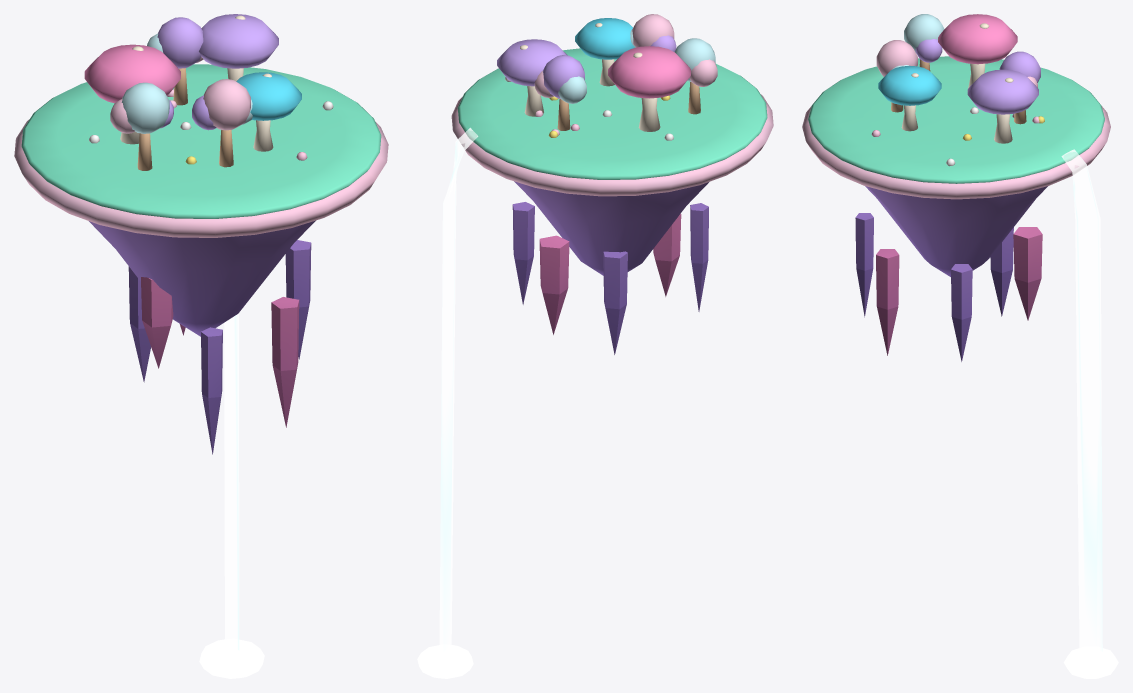
Rendered from bg_islet_a.glb.
3 views of the same model, side by side, from view 1: azimuth 30°, elevation 25°; view 2: azimuth 150°, elevation 25°; view 3: azimuth 270°, elevation 25° (orthographic). The views are drawn at different scales.
Visible parts, largest first — view 1: M_Islet_a__is_grass, M_Islet_a__is_rock, M_Islet_a__is_rim, M_Islet_a__is_water, M_Islet_a__is_rock2, M_Islet_a__is_cap0, M_Islet_a__is_cap2, M_Islet_a__is_puff0, M_Islet_a__is_puff2, M_Islet_a__is_cap1, M_Islet_a__is_puff1, M_Islet_a__is_foam (+2 smaller); view 2: M_Islet_a__is_grass, M_Islet_a__is_rock, M_Islet_a__is_water, M_Islet_a__is_rim, M_Islet_a__is_rock2, M_Islet_a__is_cap0, M_Islet_a__is_cap2, M_Islet_a__is_cap1, M_Islet_a__is_puff0, M_Islet_a__is_foam, M_Islet_a__is_puff1, M_Islet_a__is_cream (+2 smaller); view 3: M_Islet_a__is_grass, M_Islet_a__is_water, M_Islet_a__is_rock, M_Islet_a__is_rim, M_Islet_a__is_rock2, M_Islet_a__is_cap0, M_Islet_a__is_cap2, M_Islet_a__is_cap1, M_Islet_a__is_foam, M_Islet_a__is_puff2, M_Islet_a__is_cream, M_Islet_a__is_puff0 (+1 smaller).
Boxes of the visible parts, <box> form: M_Islet_a__is_grass: <box>21,64,381,218</box>; M_Islet_a__is_rock: <box>89,220,315,454</box>; M_Islet_a__is_rim: <box>14,119,388,237</box>; M_Islet_a__is_water: <box>224,313,239,650</box>; M_Islet_a__is_rock2: <box>141,277,299,427</box>; M_Islet_a__is_cap0: <box>84,44,180,103</box>; M_Islet_a__is_cap2: <box>199,14,278,68</box>; M_Islet_a__is_puff0: <box>110,57,250,133</box>; M_Islet_a__is_puff2: <box>157,17,216,130</box>; M_Islet_a__is_cap1: <box>236,72,301,120</box>; M_Islet_a__is_puff1: <box>121,33,252,133</box>; M_Islet_a__is_foam: <box>199,639,264,678</box>; M_Islet_a__is_grass: <box>457,48,767,179</box>; M_Islet_a__is_rock: <box>512,181,708,354</box>; M_Islet_a__is_water: <box>439,127,478,653</box>; M_Islet_a__is_rim: <box>451,94,773,196</box>; M_Islet_a__is_rock2: <box>539,213,681,334</box>; M_Islet_a__is_cap0: <box>608,46,690,98</box>; M_Islet_a__is_cap2: <box>497,39,567,86</box>; M_Islet_a__is_cap1: <box>575,18,634,59</box>; M_Islet_a__is_puff0: <box>534,14,717,97</box>; M_Islet_a__is_foam: <box>417,645,473,678</box>; M_Islet_a__is_puff1: <box>558,30,715,103</box>; M_Islet_a__is_cream: <box>520,23,660,131</box>; M_Islet_a__is_grass: <box>808,56,1104,183</box>; M_Islet_a__is_water: <box>1061,149,1102,651</box>; M_Islet_a__is_rock: <box>855,186,1047,361</box>; M_Islet_a__is_rim: <box>802,106,1110,199</box>; M_Islet_a__is_rock2: <box>876,227,1042,355</box>; M_Islet_a__is_cap0: <box>938,14,1017,64</box>; M_Islet_a__is_cap2: <box>967,69,1038,114</box>; M_Islet_a__is_cap1: <box>878,65,941,105</box>; M_Islet_a__is_foam: <box>1063,647,1118,678</box>; M_Islet_a__is_puff2: <box>915,39,1040,82</box>; M_Islet_a__is_cream: <box>901,23,1013,143</box>; M_Islet_a__is_puff0: <box>876,40,1037,87</box>.
Bounding box in the file's own units: 14.56 × 30.55 × 14.92.
